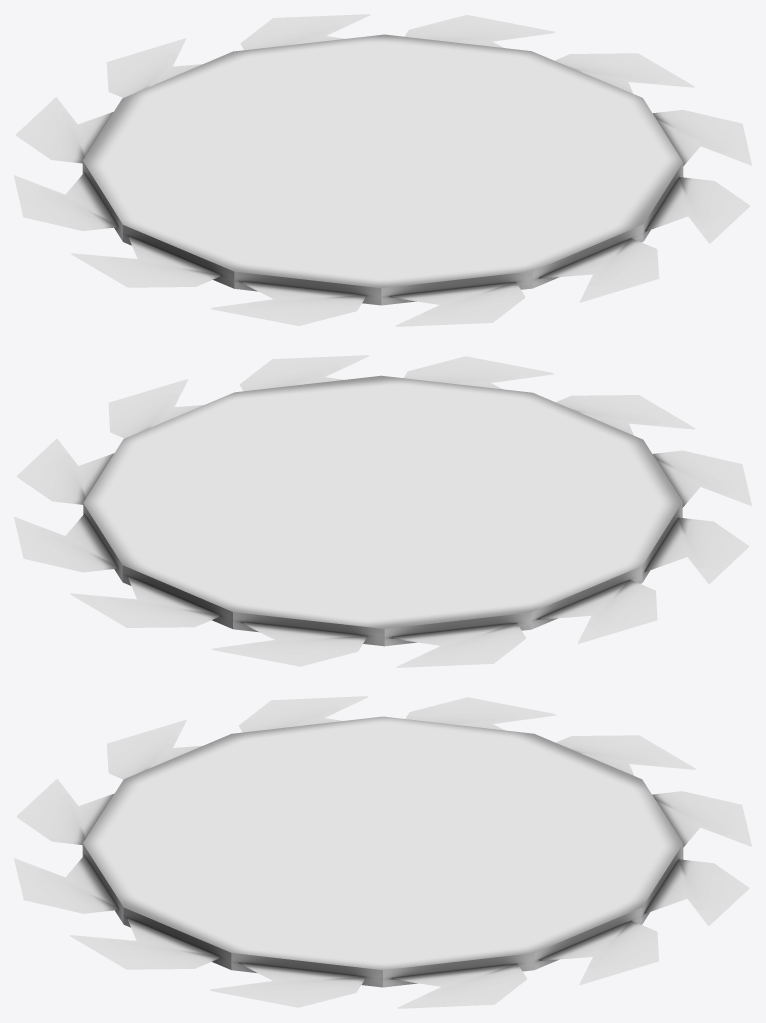
File: sawdisc.fbx
3 views of the same model, one above another, from view 1: azimuth 30°, elevation 25°; view 2: azimuth 150°, elevation 25°; view 3: azimuth 270°, elevation 25° (orthographic).
Visible parts, largest first — view 1: BezierCircle; view 2: BezierCircle; view 3: BezierCircle.
Boxes of the visible parts, bbox=[...] form: BezierCircle: bbox=[14, 14, 751, 326]; BezierCircle: bbox=[14, 355, 751, 667]; BezierCircle: bbox=[14, 696, 751, 1008].
Size of the model in its own units: 246 by 6.35 by 246.
1 material, 1 textured.
